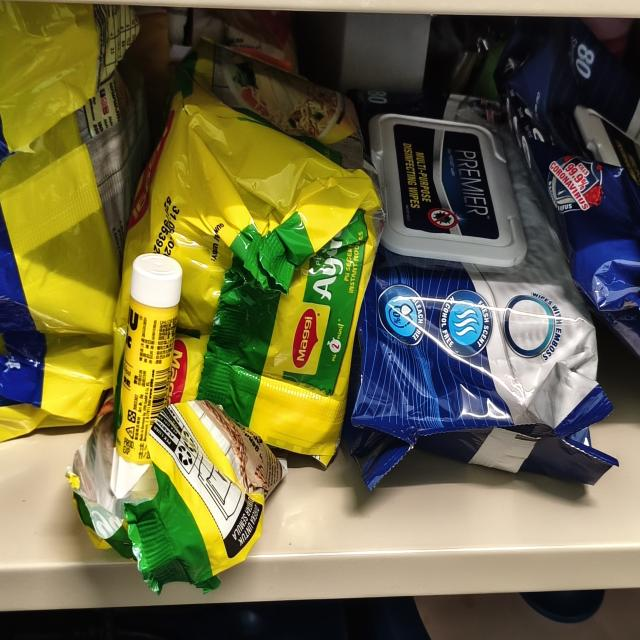glue: (110, 253, 182, 499)
